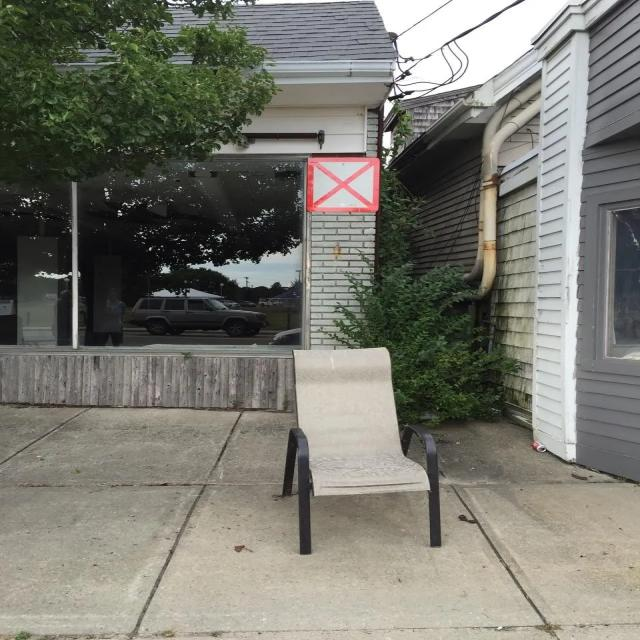House: (0, 1, 397, 415), (378, 4, 639, 486)
